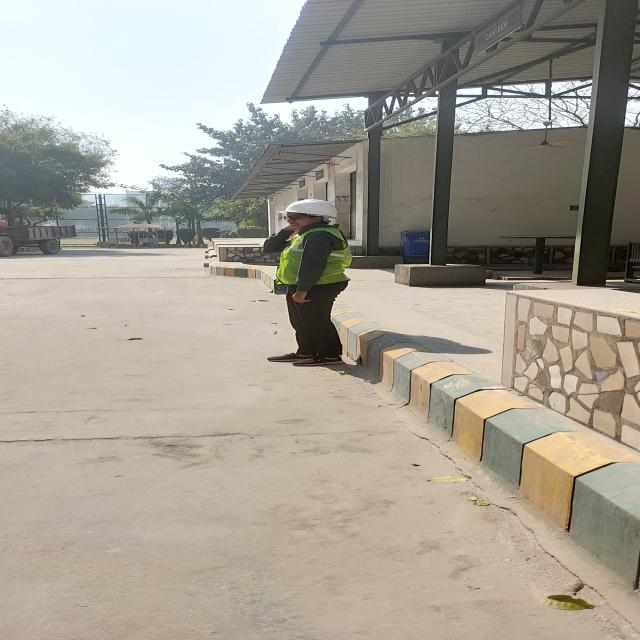safe: (265, 199, 348, 365)
